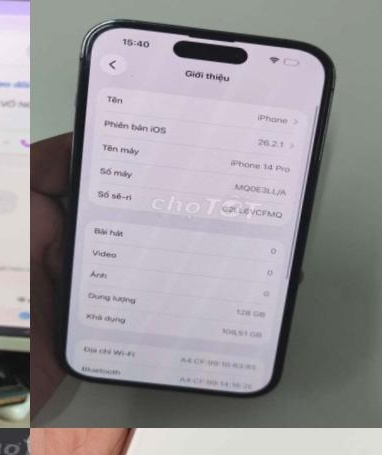scratch: (0, 428, 30, 455)
